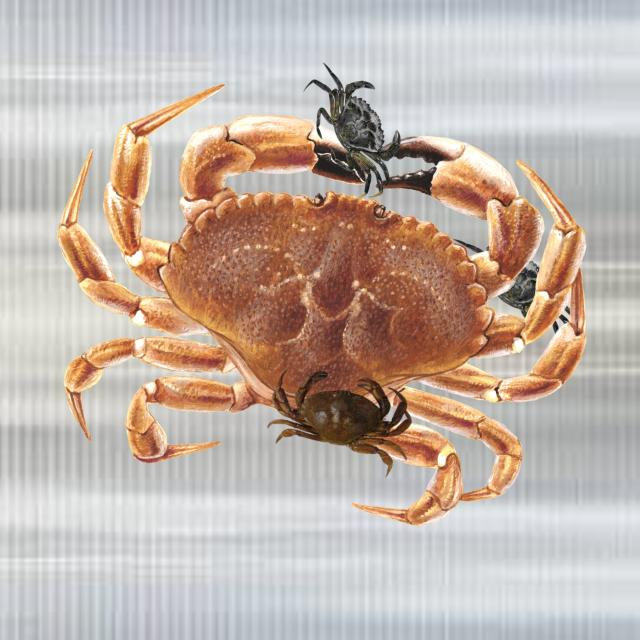European_Green_Crab: (431, 200, 609, 367), (290, 46, 420, 208)
